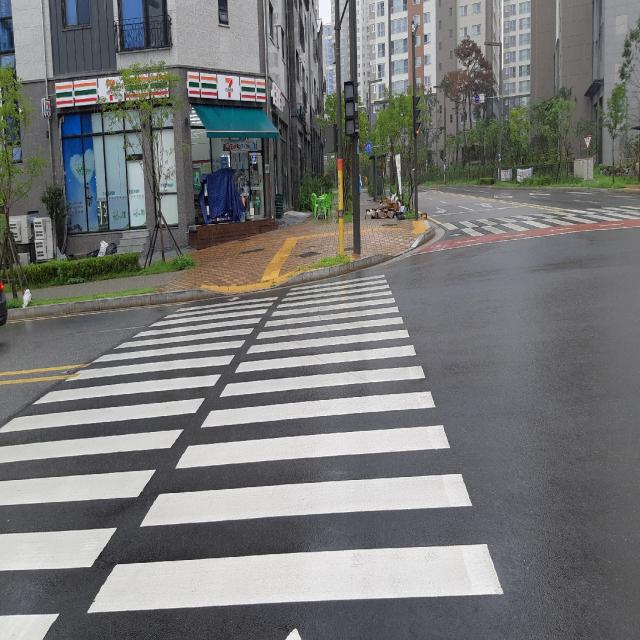횡단보도: (0, 269, 507, 640), (434, 208, 640, 239)
